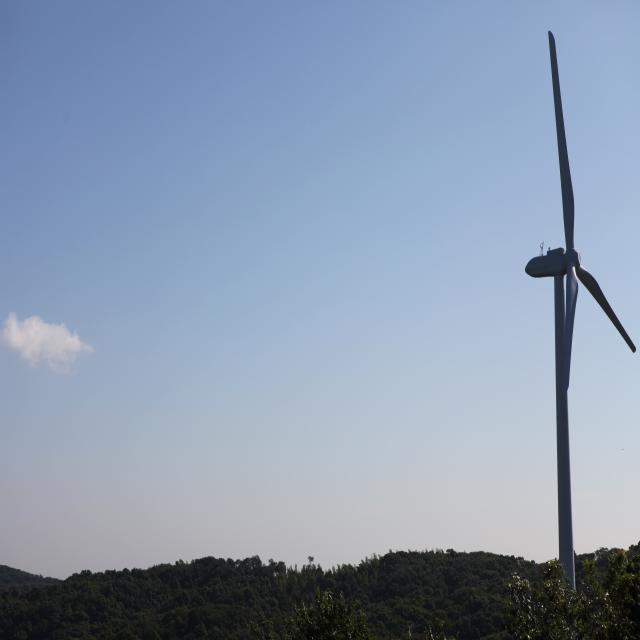bird: (622, 448, 624, 451)
